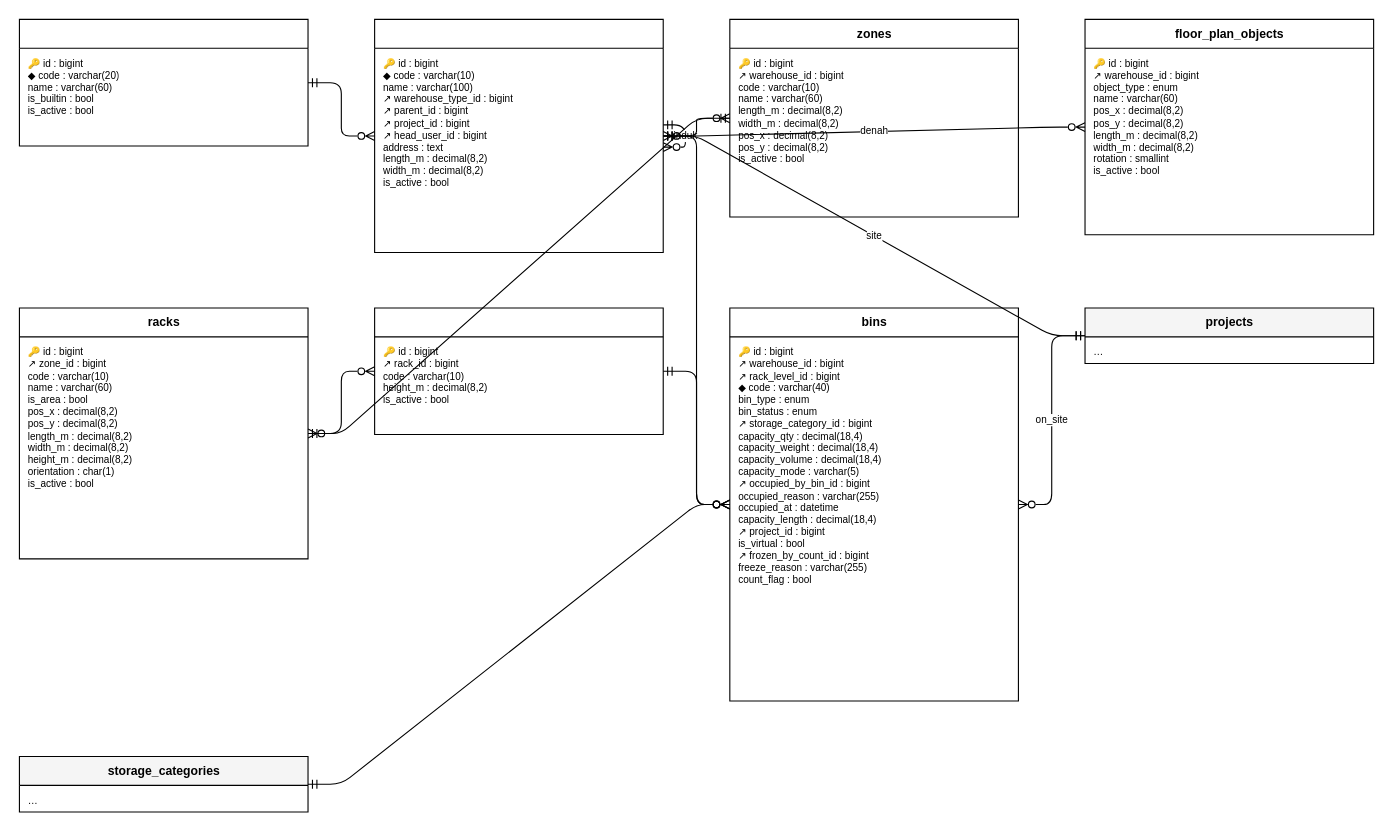
The diagram is 1393 pixels wide and 835 high, and some of its shapes have lost their labels. Here are the shapes that lost their labels. From the top down, the box of each, then its label:
(18, 18, 308, 146): warehouse_types
(374, 18, 663, 253): warehouses
(374, 307, 663, 435): rack_levels
